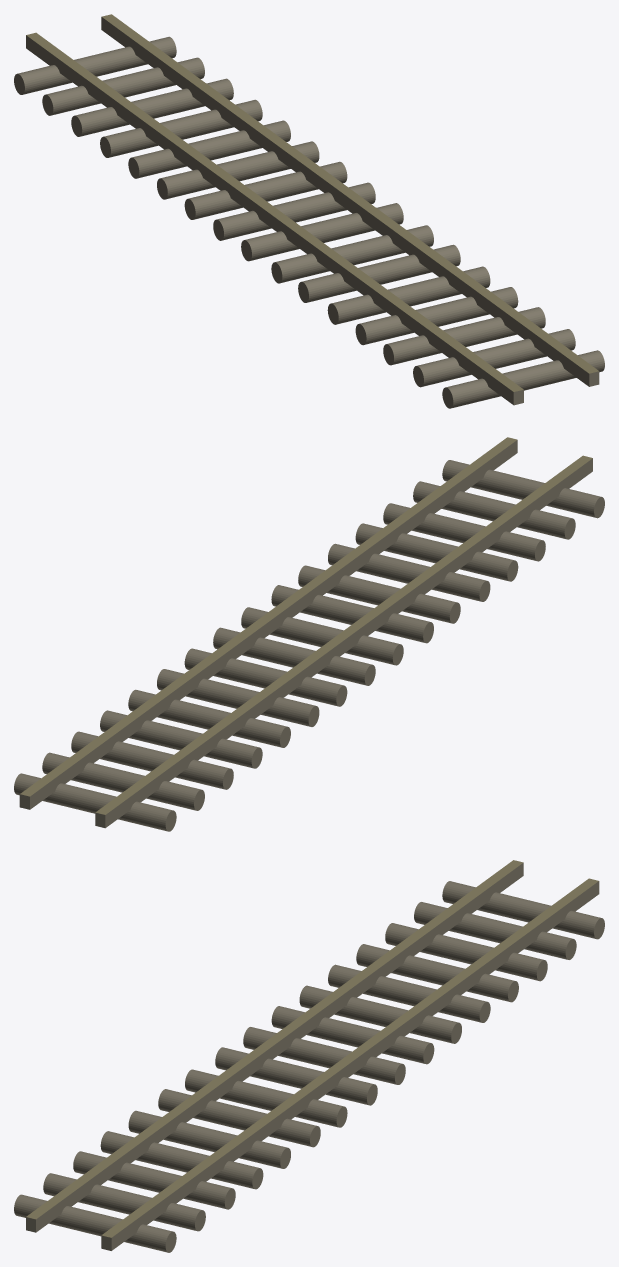
The model's file is waggonway.dae.
3 renders of one model, top to bottom at view 1: azimuth 30°, elevation 25°; view 2: azimuth 150°, elevation 25°; view 3: azimuth 330°, elevation 25°, orthographic.
Parts seen in each view (by area): view 1: Cube_013, Cube_014, Cylinder_016, Cylinder, Cylinder_001, Cylinder_002, Cylinder_004, Cylinder_007, Cylinder_010, Cylinder_011, Cylinder_013, Cylinder_008 (+6 smaller); view 2: Cube_013, Cube_014, Cylinder_012, Cylinder_005, Cylinder_006, Cylinder_007, Cylinder_009, Cylinder_015, Cylinder_003, Cylinder_011, Cylinder_013, Cylinder_016 (+6 smaller); view 3: Cube_013, Cube_014, Cylinder_011, Cylinder_001, Cylinder_015, Cylinder_004, Cylinder_007, Cylinder_013, Cylinder_003, Cylinder_006, Cylinder_010, Cylinder_016 (+6 smaller).
Part boxes in pixels (x1,y1,x2,y2): Cube_013: (101, 14, 599, 386); Cube_014: (26, 32, 523, 405); Cylinder_016: (442, 350, 604, 408); Cylinder: (298, 244, 460, 302); Cylinder_001: (327, 266, 490, 324); Cylinder_002: (355, 287, 518, 345); Cylinder_004: (271, 225, 433, 283); Cylinder_007: (184, 161, 347, 219); Cylinder_010: (100, 99, 262, 157); Cylinder_011: (71, 78, 233, 136); Cylinder_013: (14, 36, 176, 94); Cylinder_008: (157, 141, 319, 199); Cube_013: (19, 437, 517, 809); Cube_014: (95, 455, 592, 828); Cylinder_012: (42, 752, 204, 810); Cylinder_005: (241, 607, 403, 665); Cylinder_006: (213, 627, 375, 685); Cylinder_007: (184, 648, 347, 706); Cylinder_009: (128, 689, 290, 747); Cylinder_015: (413, 481, 575, 539); Cylinder_003: (383, 503, 545, 561); Cylinder_011: (71, 731, 233, 789); Cylinder_013: (14, 773, 176, 831); Cylinder_016: (442, 460, 604, 518); Cube_013: (101, 878, 599, 1250); Cube_014: (26, 860, 523, 1232); Cylinder_011: (385, 923, 547, 981); Cylinder_001: (128, 1110, 290, 1168); Cylinder_015: (43, 1173, 205, 1231); Cylinder_004: (185, 1069, 347, 1127); Cylinder_007: (271, 1006, 434, 1064); Cylinder_013: (442, 881, 604, 939); Cylinder_003: (73, 1151, 235, 1209); Cylinder_006: (243, 1027, 405, 1084); Cylinder_010: (356, 944, 518, 1002); Cylinder_016: (14, 1194, 176, 1252).
Size of the model in its own units: 1.6 by 8.91 by 0.2904.
